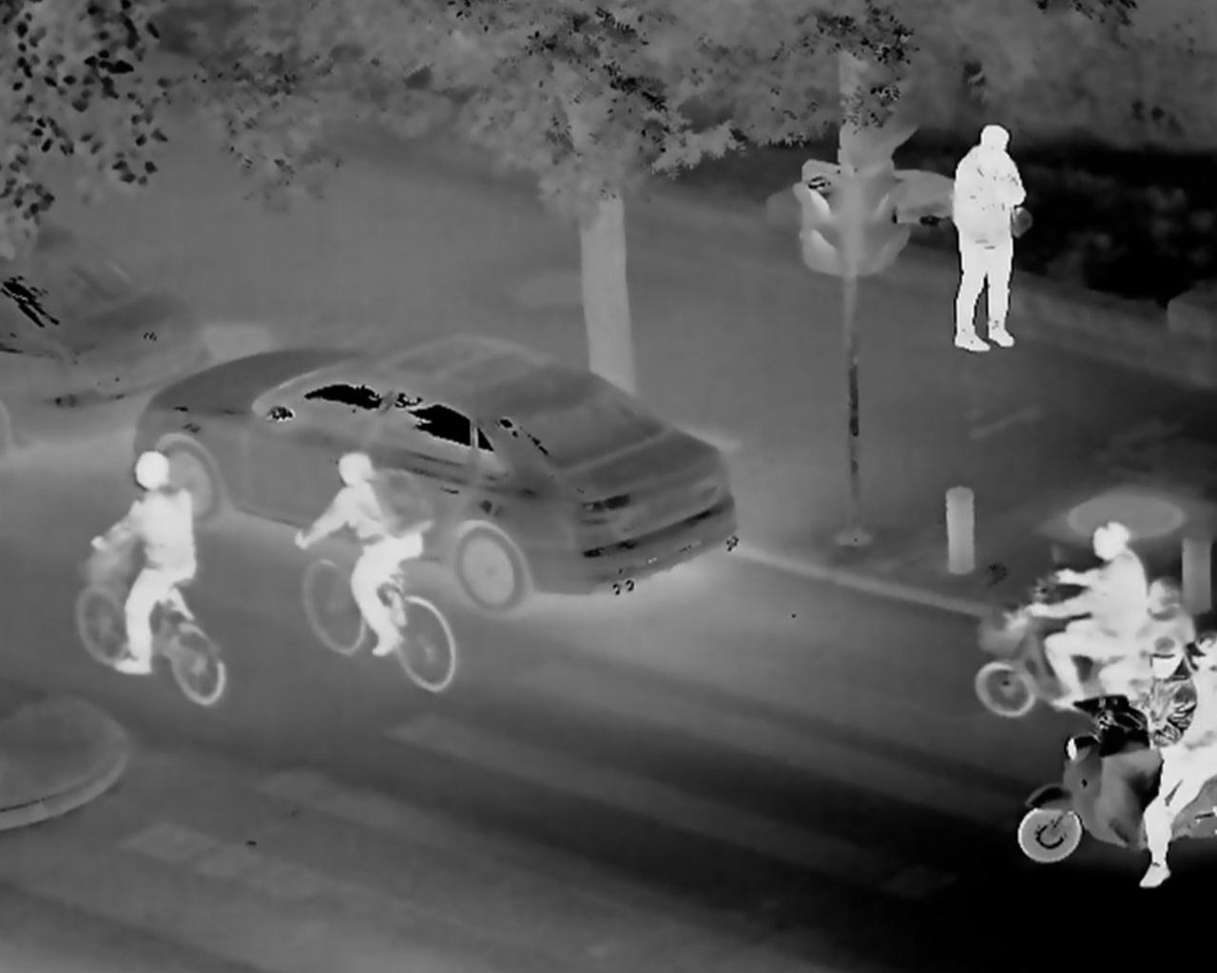person: (85, 449, 222, 691), (293, 444, 433, 666), (934, 120, 1034, 376), (1023, 513, 1148, 706), (1140, 637, 1195, 885), (1104, 573, 1198, 696), (1190, 628, 1217, 775)
